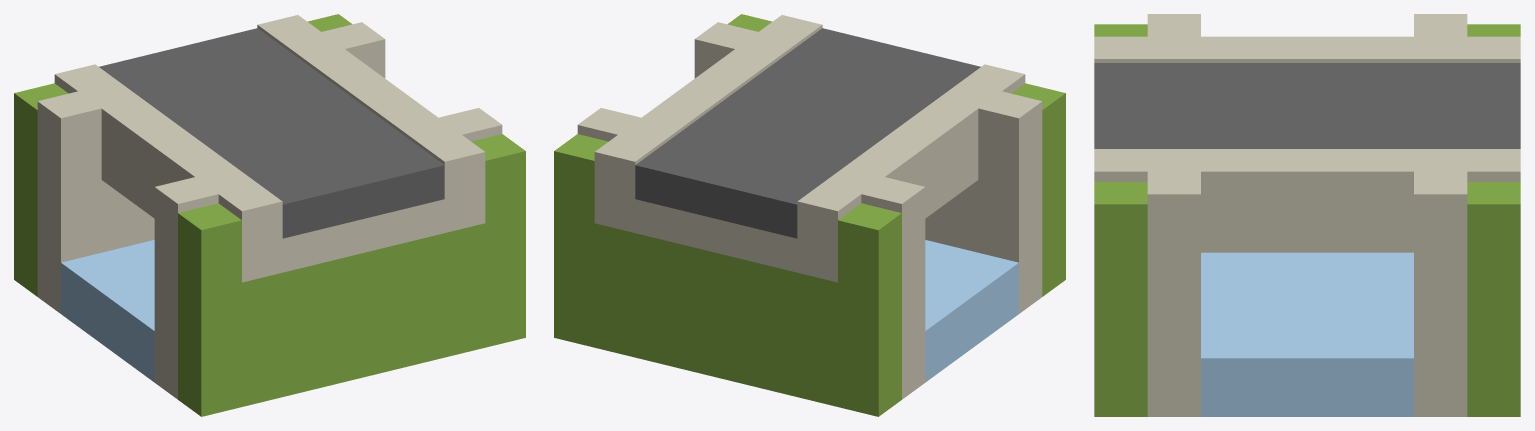
The model's file is tile165.fbx.
3 views of the same model, side by side, from view 1: azimuth 30°, elevation 25°; view 2: azimuth 150°, elevation 25°; view 3: azimuth 270°, elevation 25° (orthographic). The views are drawn at different scales.
Parts seen in each view (by area): view 1: tile165; view 2: tile165; view 3: tile165.
Boxes of the visible parts, box(x1,y1,x2,y2) form: tile165: box(14, 14, 525, 416); tile165: box(554, 14, 1065, 416); tile165: box(1094, 14, 1520, 416).
Bounding box in the file's own units: 10 × 5.77 × 10.
